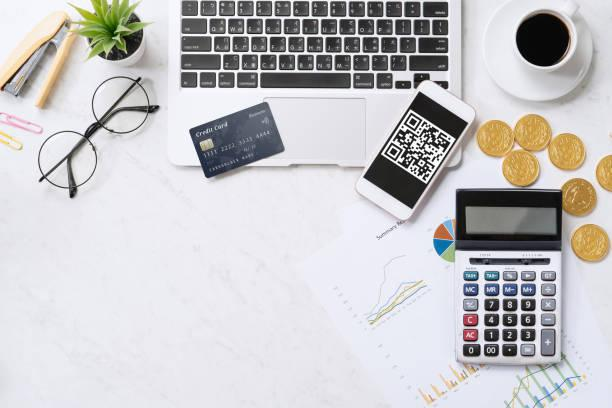Finder pattern: (403, 111, 422, 133), (385, 142, 403, 162)
